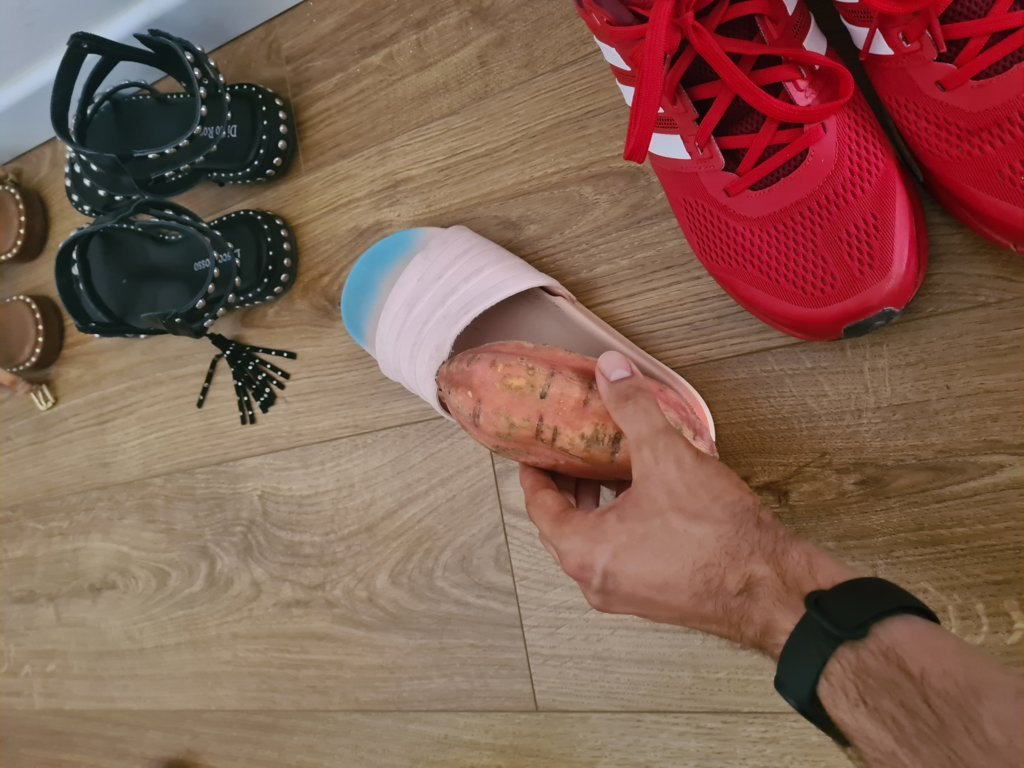Sweet Potatow: (434, 343, 722, 482)
